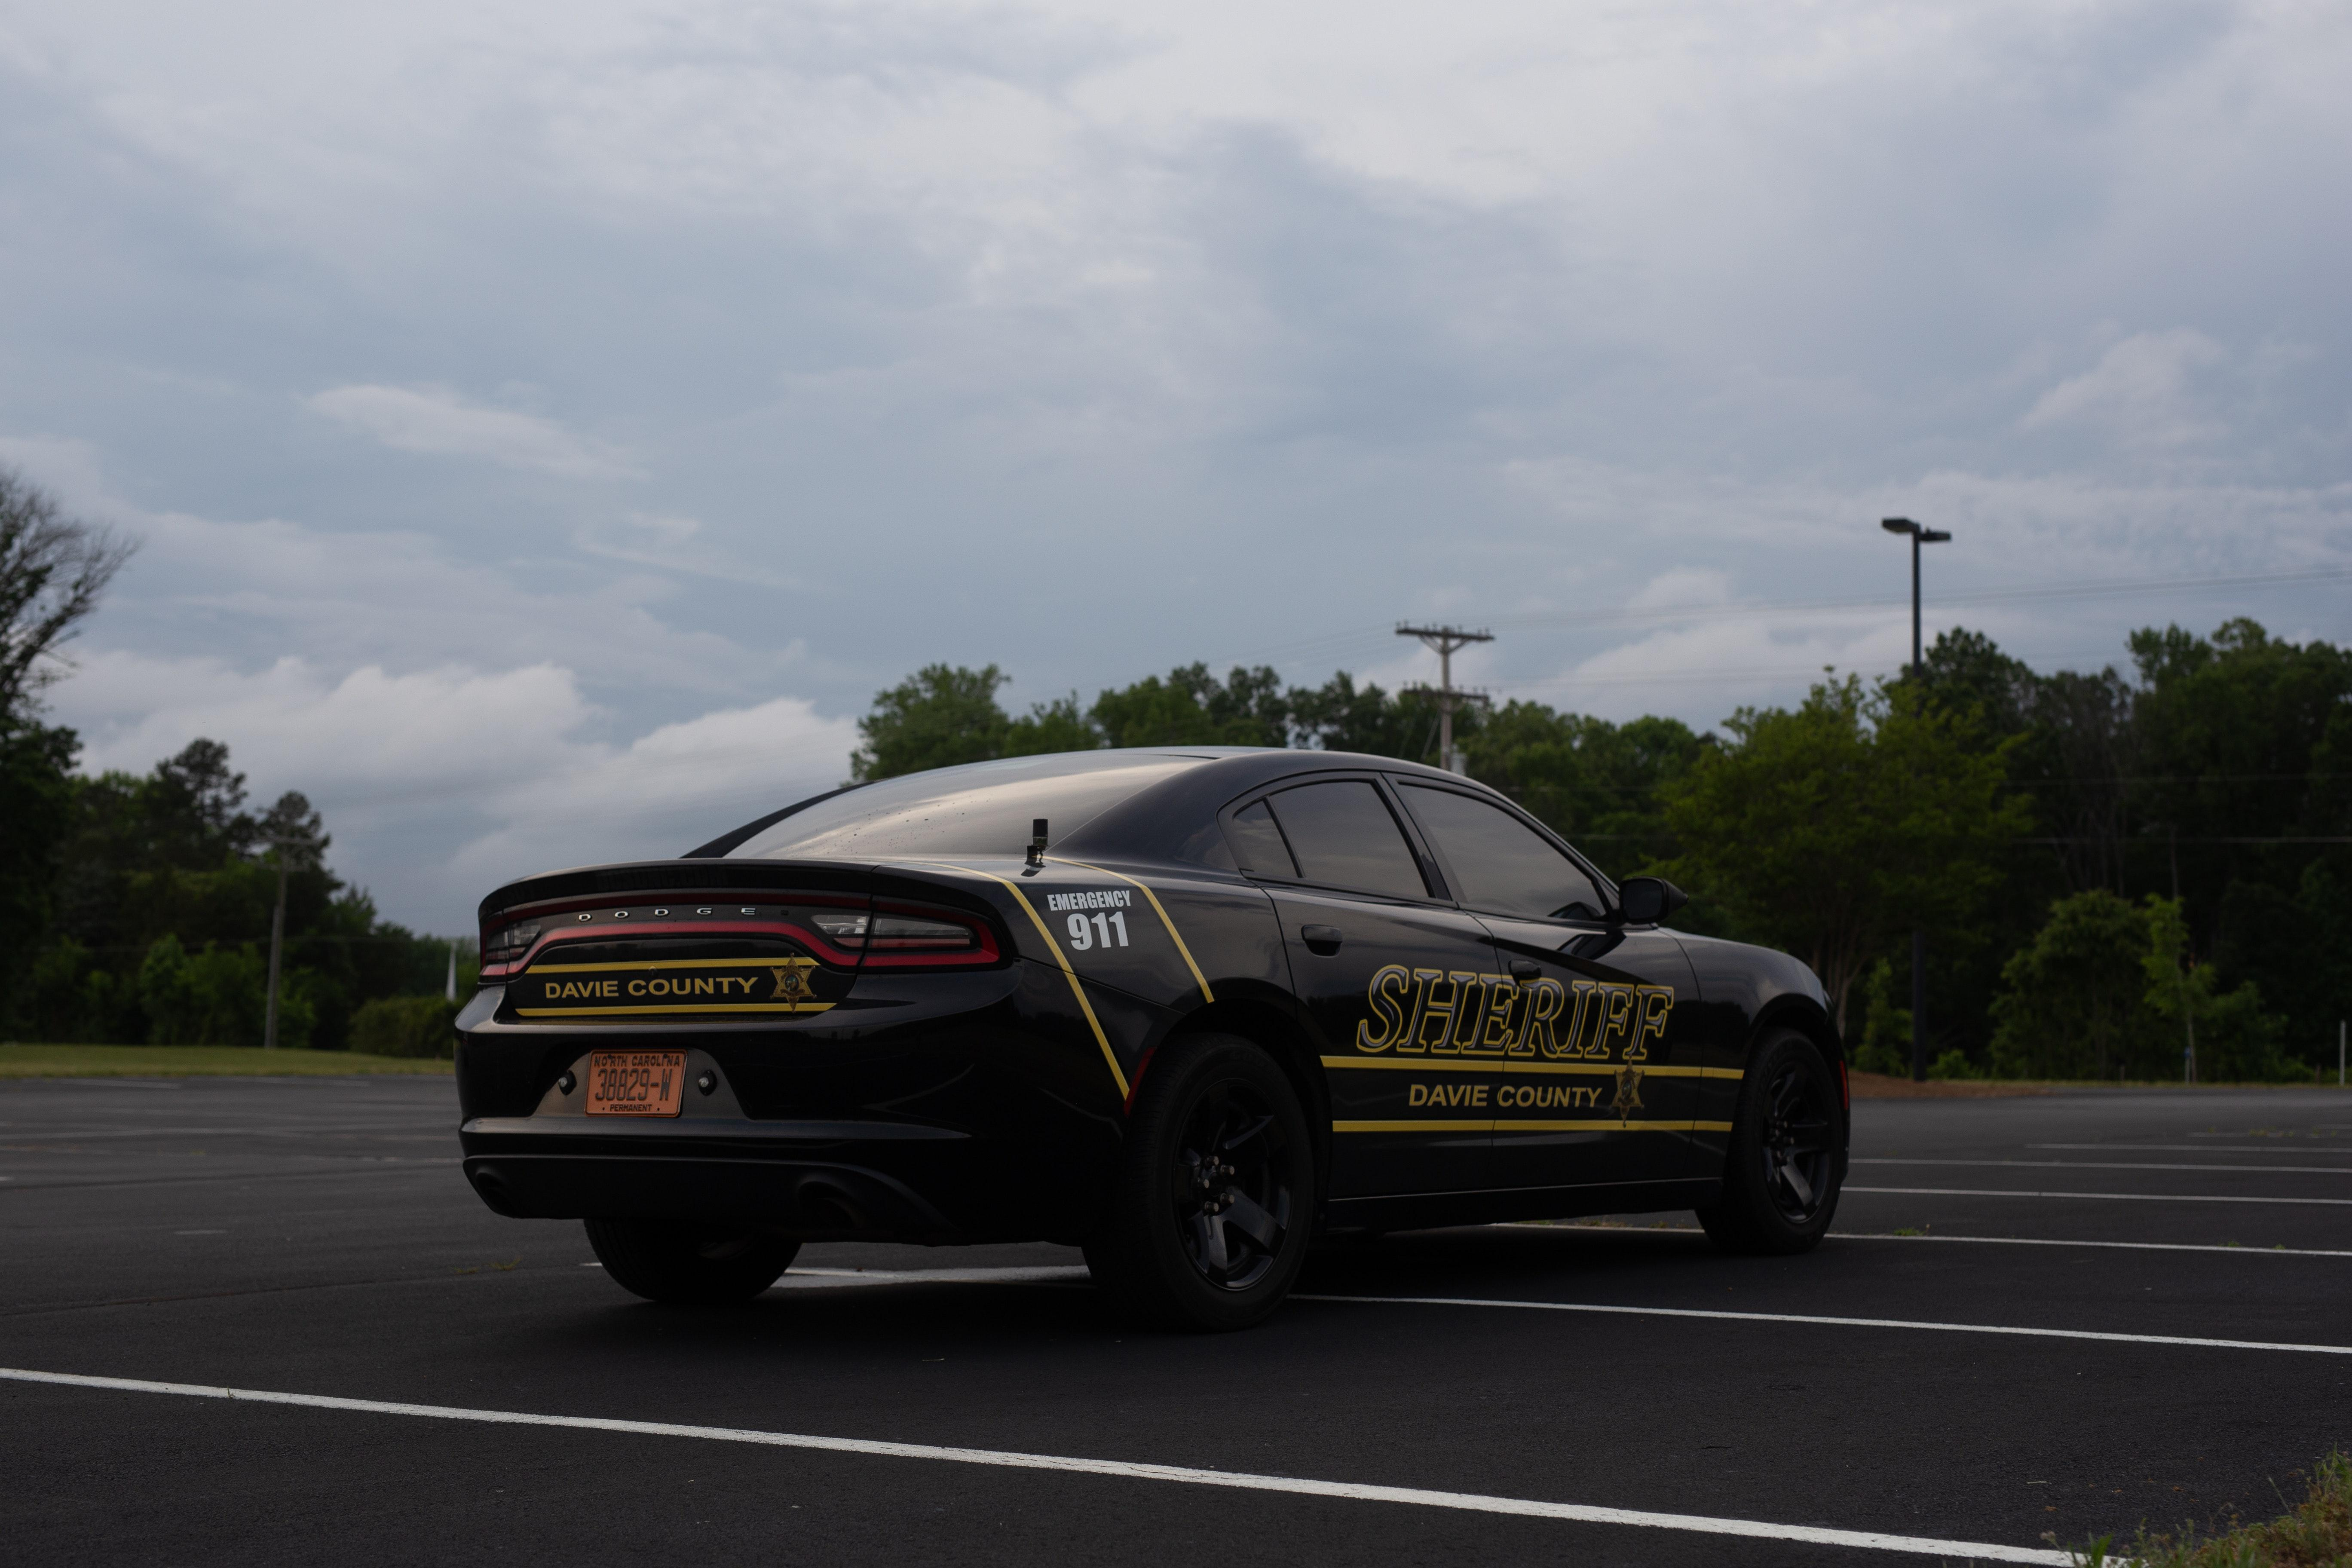dodge: (570, 887, 773, 936)
